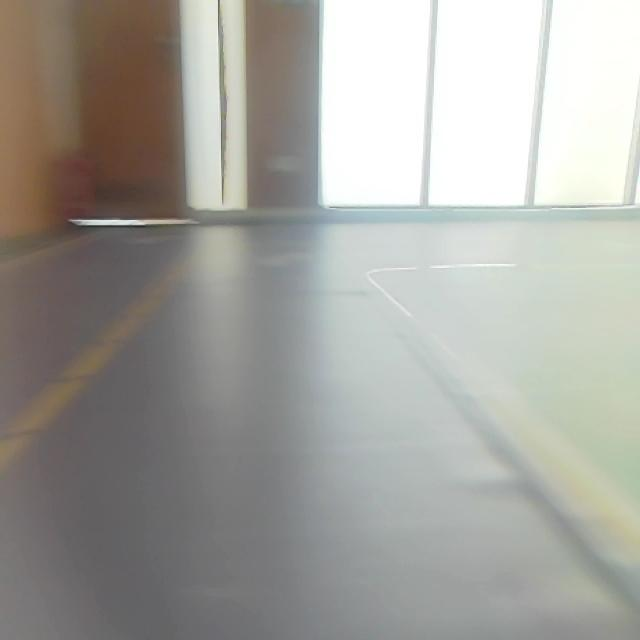left_lane: (0, 253, 191, 470)
right_lane: (365, 281, 640, 557)
